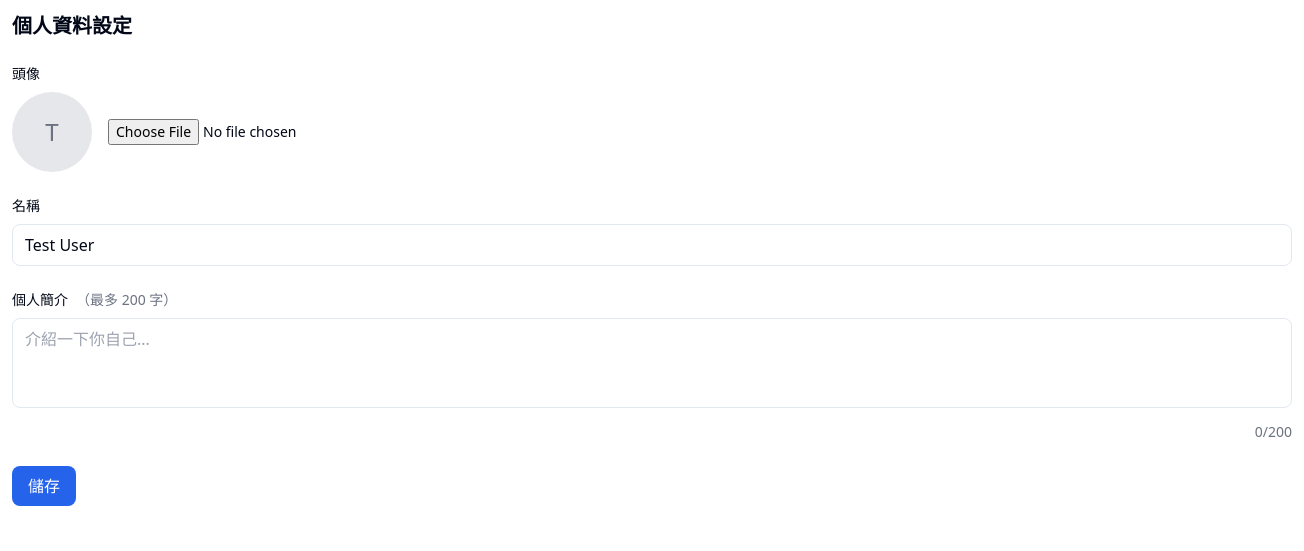
it: ProfileSettings › validates name length (2-50 chars)
Replace the text in the field labelled "名稱" with "A": [652, 245] box [12,224,1292,266]
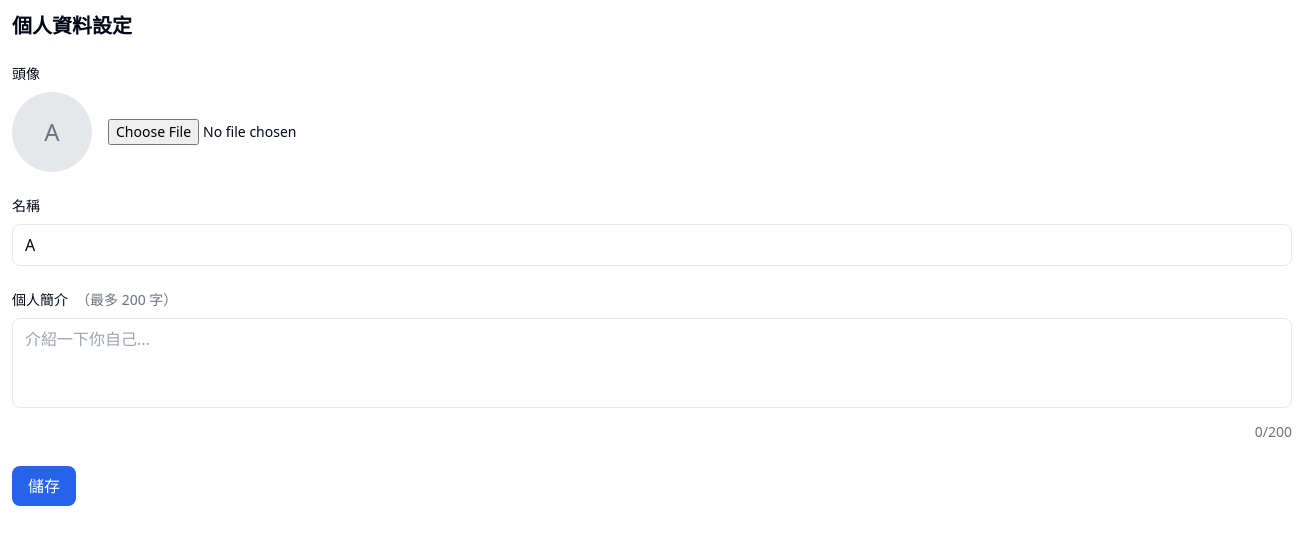
Click the button "儲存": [44, 486] box [12,466,76,506]
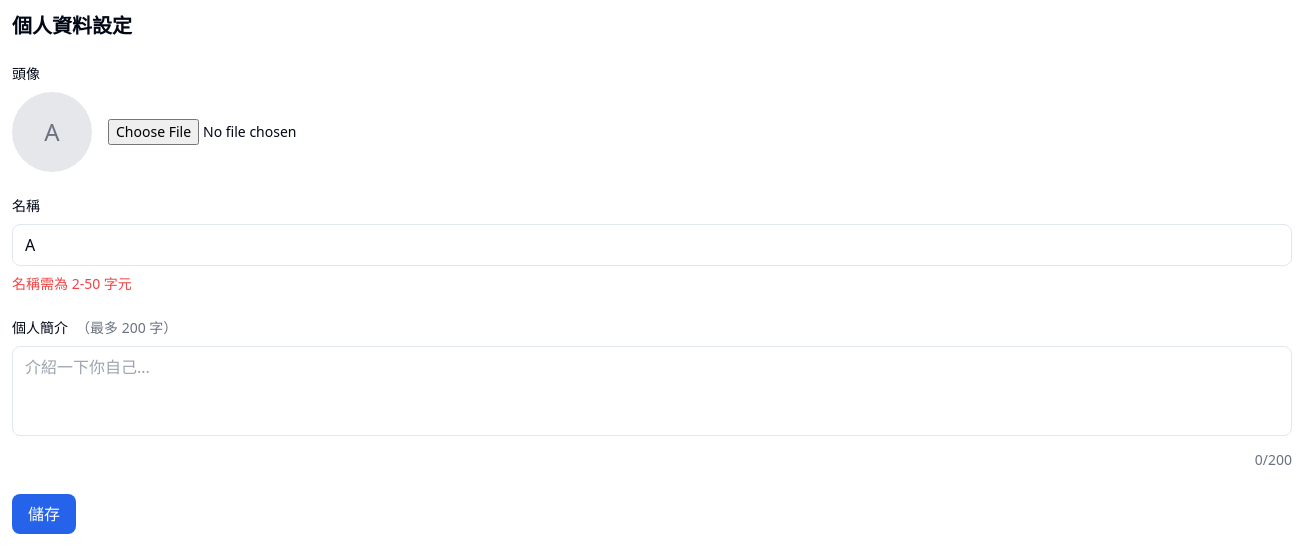
Now the text "名稱需為 2-50 字元" is shown, box [12,274,132,293]
